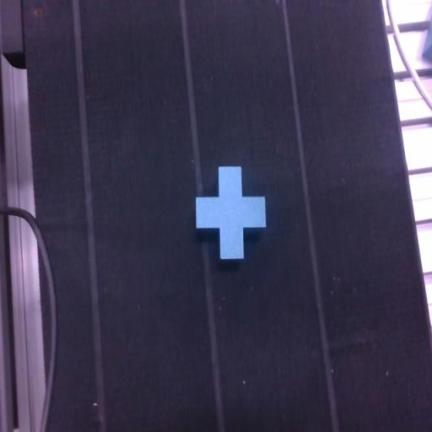cross: (196, 167, 265, 259)
